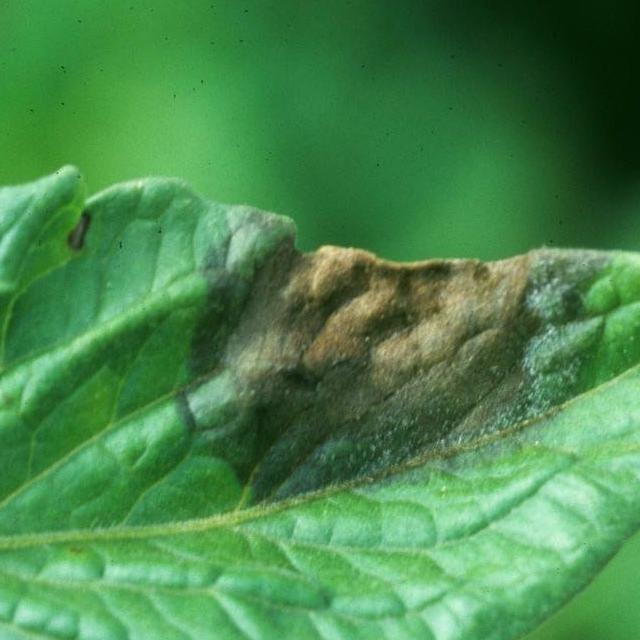Tomato leaf late blight: (0, 122, 640, 640)
